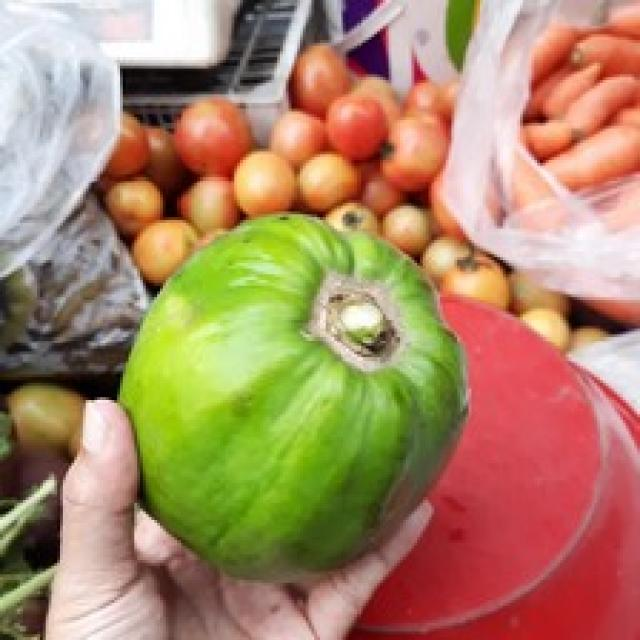Pepaya unrippen: (96, 193, 496, 580)
